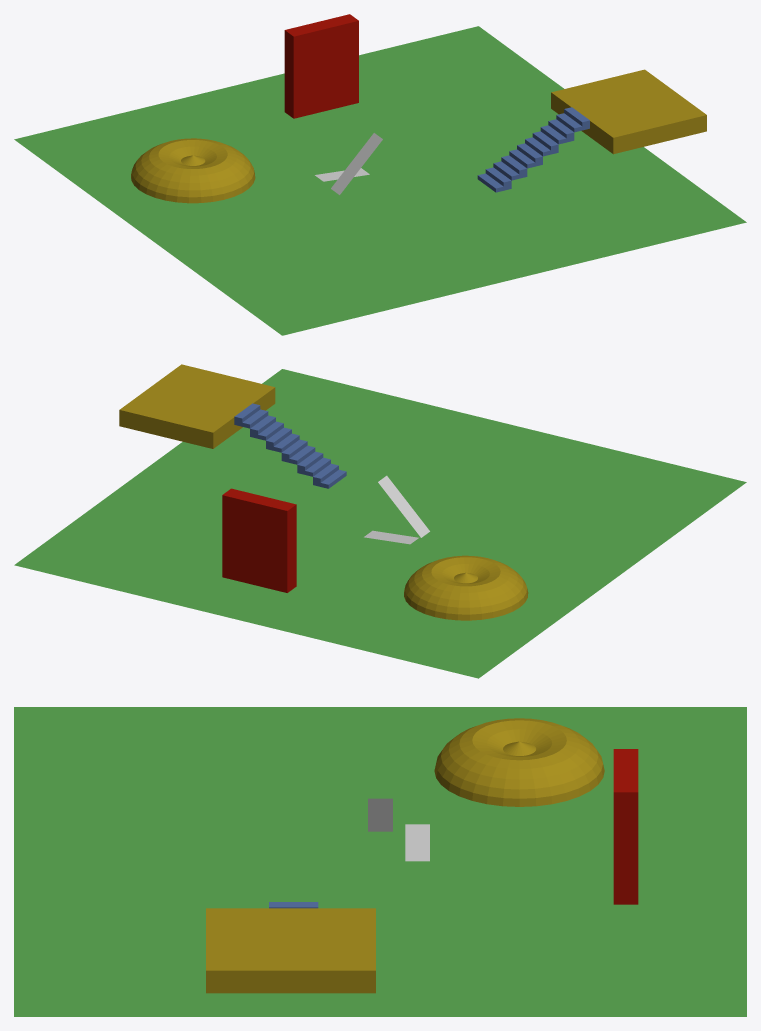
File: collisiontest.obj
3 views of the same model, one above another, from view 1: azimuth 30°, elevation 25°; view 2: azimuth 150°, elevation 25°; view 3: azimuth 270°, elevation 25° (orthographic). The views are drawn at different scales.
Visible parts, largest first — view 1: Plane, Sphere, Cube.012_Cube.013, Cube.001_Cube.002, Plane.002; view 2: Plane, Sphere, Cube.012_Cube.013, Cube.001_Cube.002, Plane.002; view 3: Plane, Sphere, Cube.012_Cube.013, Plane.001, Plane.002.
Part boxes in pixels (x1,y1,x2,y2): Plane: [14, 26, 746, 335]; Sphere: [131, 69, 706, 203]; Cube.012_Cube.013: [284, 14, 358, 118]; Cube.001_Cube.002: [477, 107, 589, 192]; Plane.002: [331, 133, 382, 194]; Plane: [14, 369, 746, 678]; Sphere: [119, 364, 528, 620]; Cube.012_Cube.013: [222, 488, 296, 592]; Cube.001_Cube.002: [234, 403, 346, 488]; Plane.002: [378, 475, 429, 537]; Plane: [14, 707, 746, 1016]; Sphere: [206, 718, 604, 993]; Cube.012_Cube.013: [613, 749, 638, 904]; Plane.001: [405, 824, 429, 861]; Plane.002: [368, 798, 392, 831].
Size of the model in its own units: 63.07 by 13.44 by 59.2.
